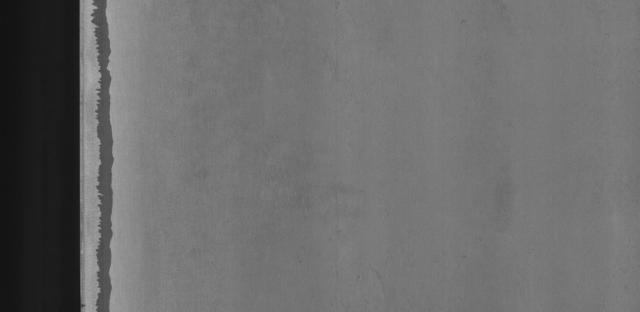oil_spot: (88, 0, 142, 311)
